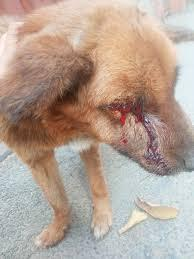bleeding: (105, 92, 162, 161)
